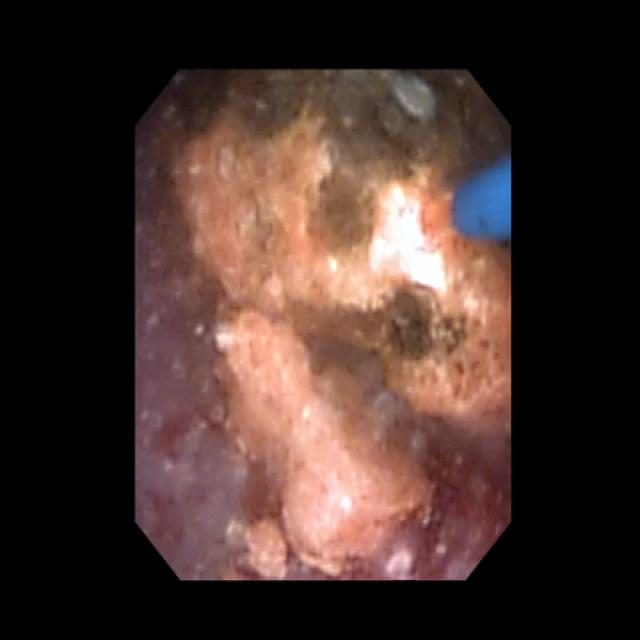fiber: (457, 160, 506, 233)
stone: (155, 76, 506, 574)
